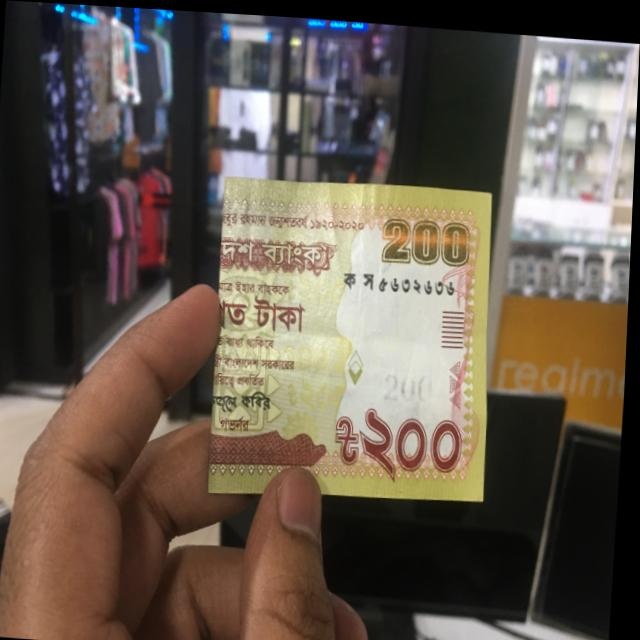Taka: (204, 169, 503, 500)
